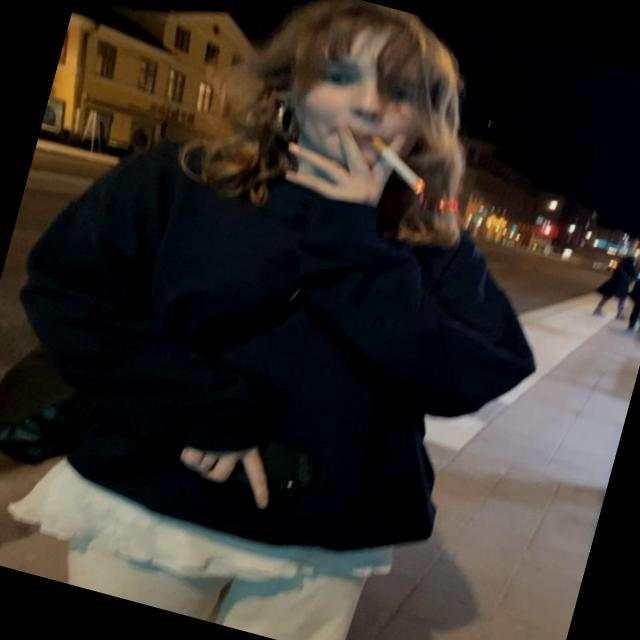smoke: (364, 127, 438, 198)
